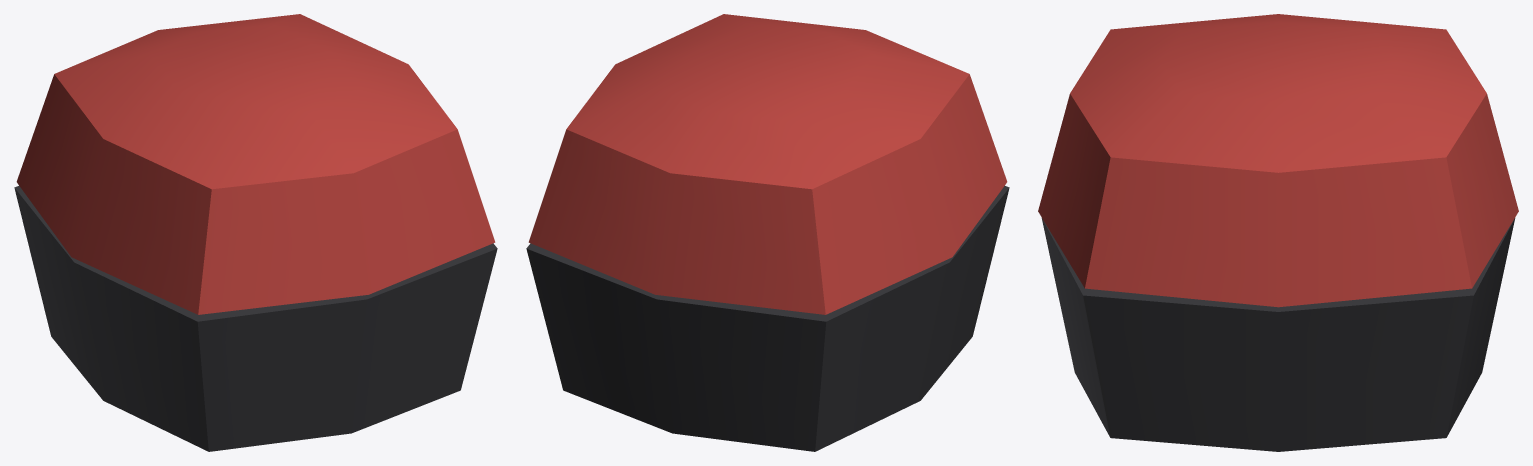
File: top_case_lod2.glb
3 views of the same model, side by side, from view 1: azimuth 30°, elevation 25°; view 2: azimuth 150°, elevation 25°; view 3: azimuth 270°, elevation 25° (orthographic). The views are drawn at different scales.
Visible parts, largest first — view 1: top_case_lod2; view 2: top_case_lod2; view 3: top_case_lod2.
Boxes of the visible parts, x1=… form: top_case_lod2: x1=14, y1=14, x2=497, y2=451; top_case_lod2: x1=526, y1=14, x2=1009, y2=451; top_case_lod2: x1=1038, y1=14, x2=1518, y2=451.
Bounding box in the file's own units: 0.3451 × 0.26 × 0.3654.
